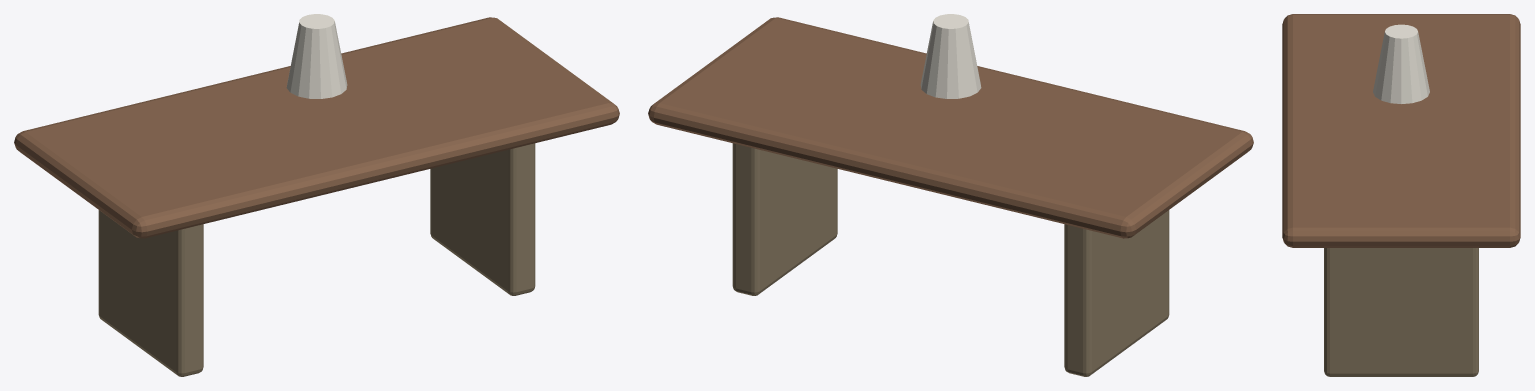
Rendered from home_dining.glb.
3 views of the same model, side by side, from view 1: azimuth 30°, elevation 25°; view 2: azimuth 150°, elevation 25°; view 3: azimuth 270°, elevation 25° (orthographic). The views are drawn at different scales.
Parts seen in each view (by area): view 1: dining; view 2: dining; view 3: dining.
Boxes of the visible parts, x1,y1,x2,y2 form: dining: [14, 14, 619, 376]; dining: [648, 14, 1253, 376]; dining: [1282, 14, 1520, 376].
Bounding box in the file's own units: 2.2 × 1.23 × 1.
